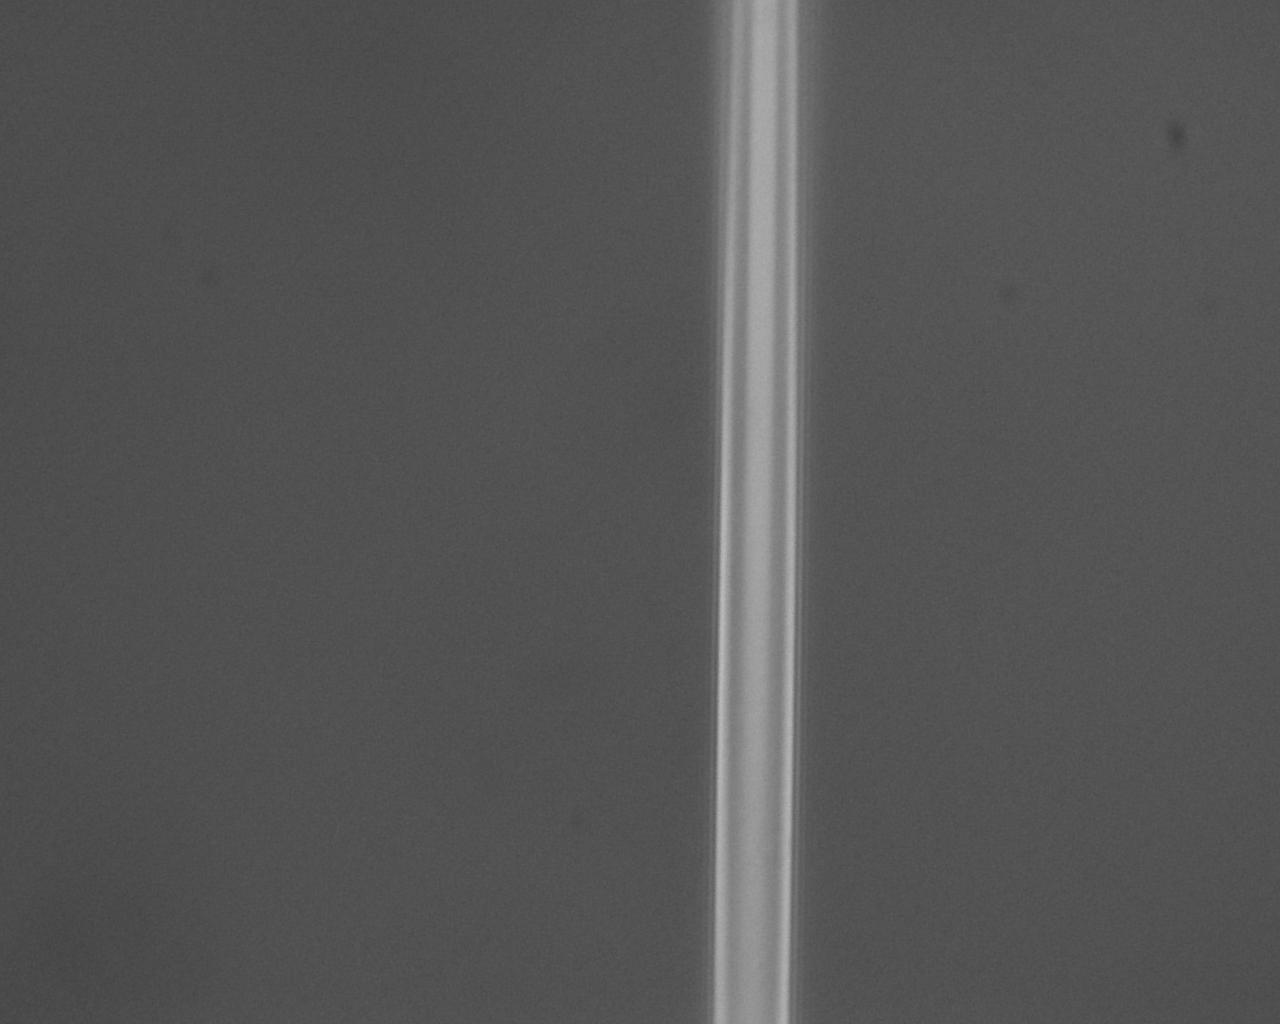fiber: (397, 0, 776, 512)
